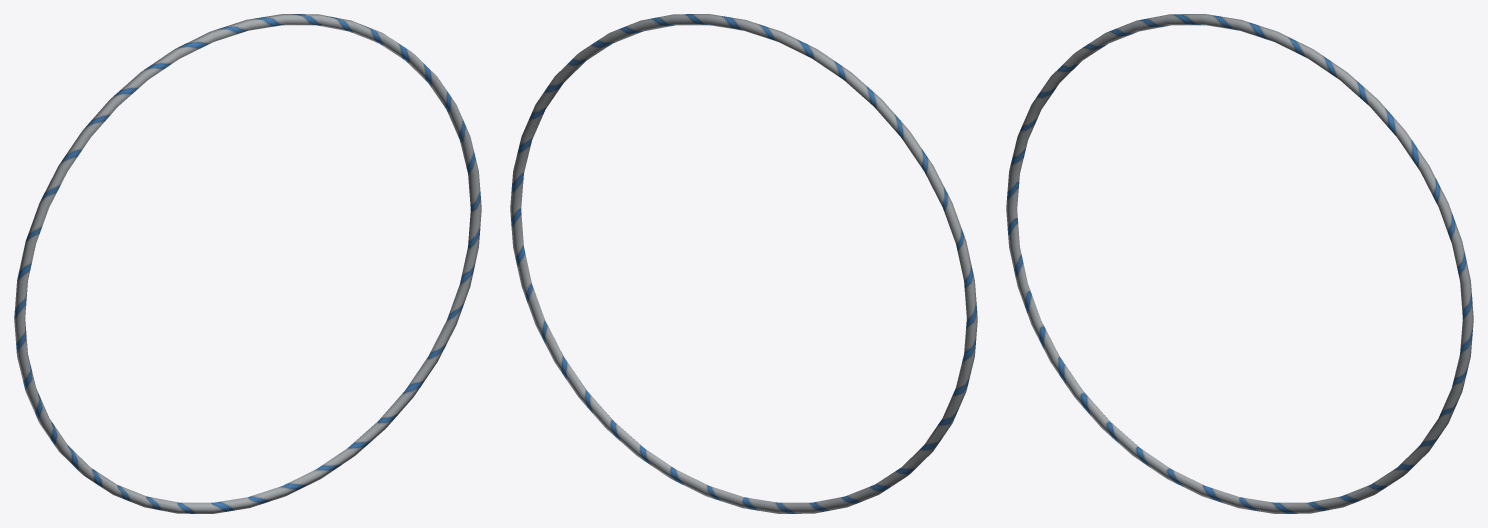
File: HulaHoop_Big1.fbx
3 renders of one model, left to right at view 1: azimuth 30°, elevation 25°; view 2: azimuth 150°, elevation 25°; view 3: azimuth 330°, elevation 25°, orthographic.
Visible parts, largest first — view 1: HulaHoop_Big1; view 2: HulaHoop_Big1; view 3: HulaHoop_Big1.
Part boxes in pixels (bbox=[...]): HulaHoop_Big1: bbox=[14, 14, 481, 513]; HulaHoop_Big1: bbox=[510, 14, 977, 513]; HulaHoop_Big1: bbox=[1006, 14, 1473, 513].
Bounding box in the file's own units: 54.24 × 54.24 × 1.14.
